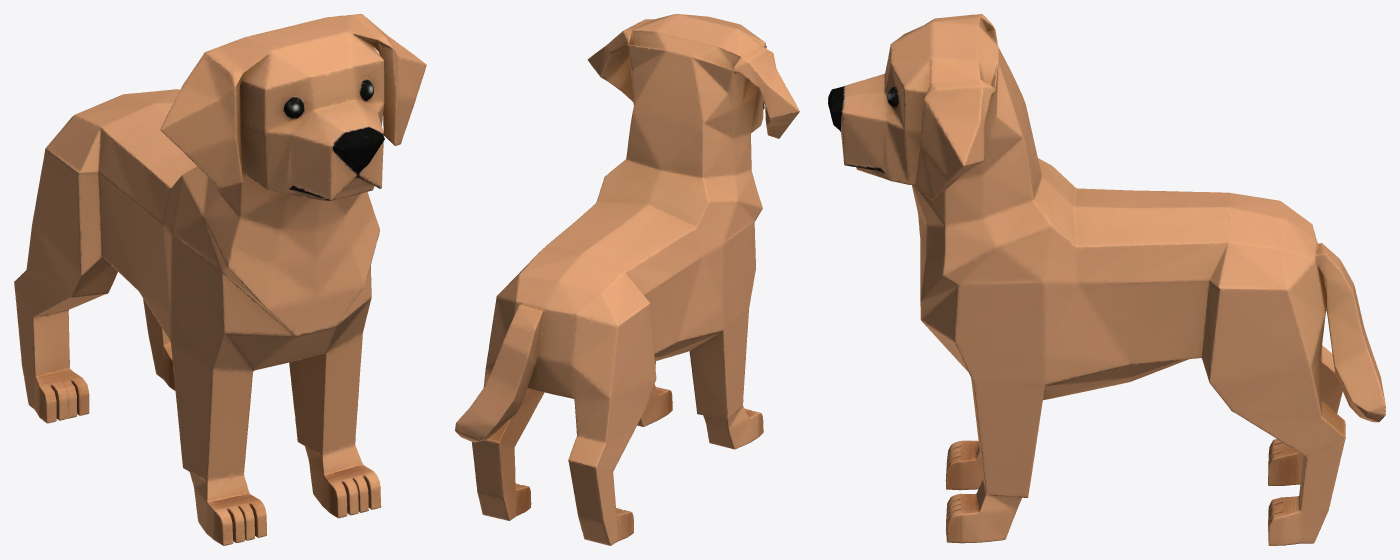
File: Pixel.glb
The picture shows the model from 3 angles, left to right: view 1: azimuth 30°, elevation 25°; view 2: azimuth 150°, elevation 25°; view 3: azimuth 270°, elevation 25°; orthographic projection. The views are drawn at different scales.
Visible parts, largest first — view 1: world; view 2: world; view 3: world.
Part boxes in pixels (x1,y1,x2,y2): world: [14, 14, 426, 545]; world: [455, 14, 799, 545]; world: [828, 14, 1385, 545].
Size of the model in its own units: 0.5239 by 0.925 by 1.
Materials: 1 (1 with a texture image).
